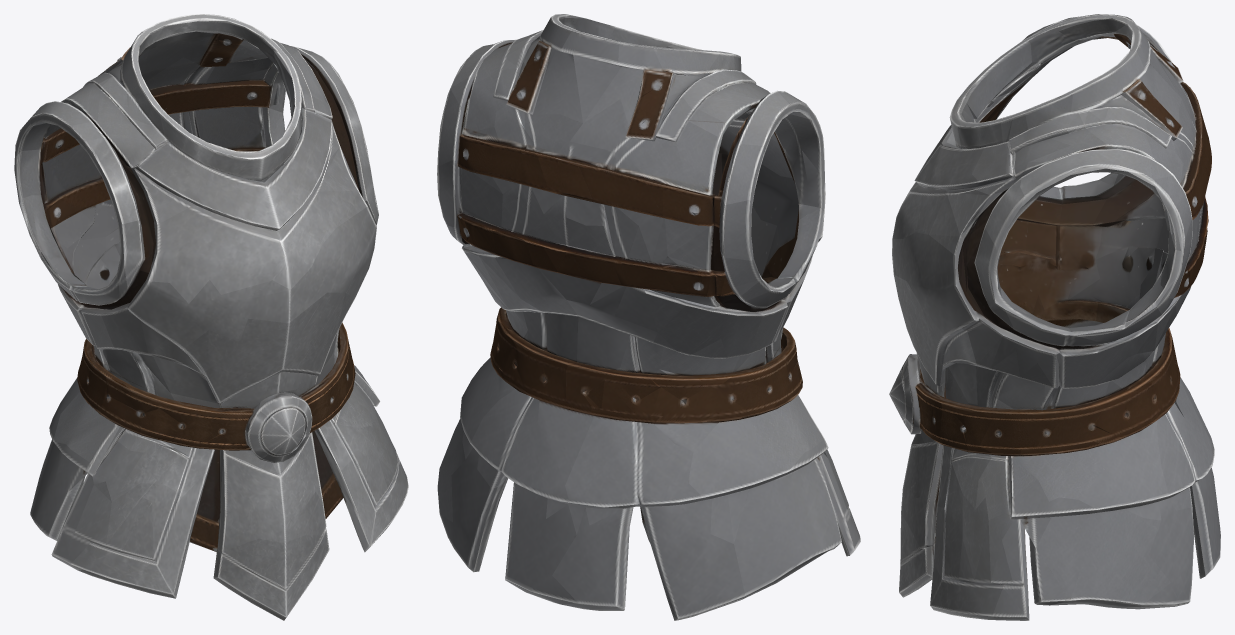
Rendered from Meshy_AI_steel_chestplate_prop_1105013225_texture.glb.
3 renders of one model, left to right at view 1: azimuth 30°, elevation 25°; view 2: azimuth 150°, elevation 25°; view 3: azimuth 270°, elevation 25°, orthographic. The views are drawn at different scales.
Visible parts, largest first — view 1: output_unwrapped; view 2: output_unwrapped; view 3: output_unwrapped.
Boxes of the visible parts, box(x1,y1,x2,y2) form: output_unwrapped: box(14, 14, 408, 620); output_unwrapped: box(437, 14, 860, 620); output_unwrapped: box(889, 14, 1220, 620).
Bounding box in the file's own units: 1.34 × 1.9 × 1.02.
Materials: 1 (1 with a texture image).
